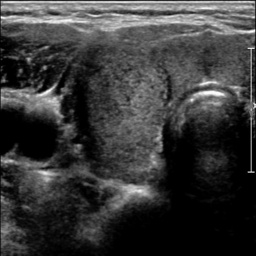mass: (75, 48, 168, 183)
